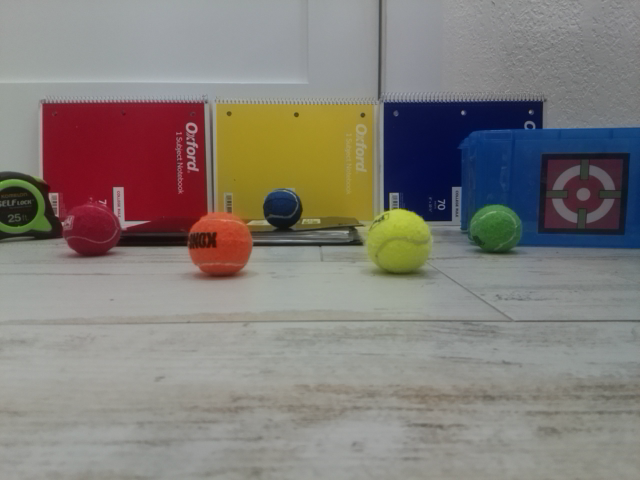blue-ball: (261, 187, 303, 229)
drop-bin: (535, 152, 629, 234)
green-ball: (468, 203, 524, 255)
orange-ball: (186, 211, 254, 278)
red-ball: (61, 202, 120, 256)
yellow-ball: (364, 208, 433, 277)
